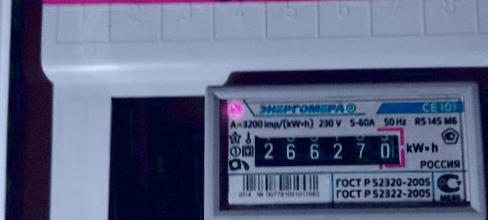0: (378, 139, 389, 159)
2: (261, 139, 275, 160), (331, 140, 343, 160)
6: (284, 141, 296, 161), (308, 140, 320, 159)
7: (354, 139, 366, 159)
screen: (241, 120, 415, 178)
